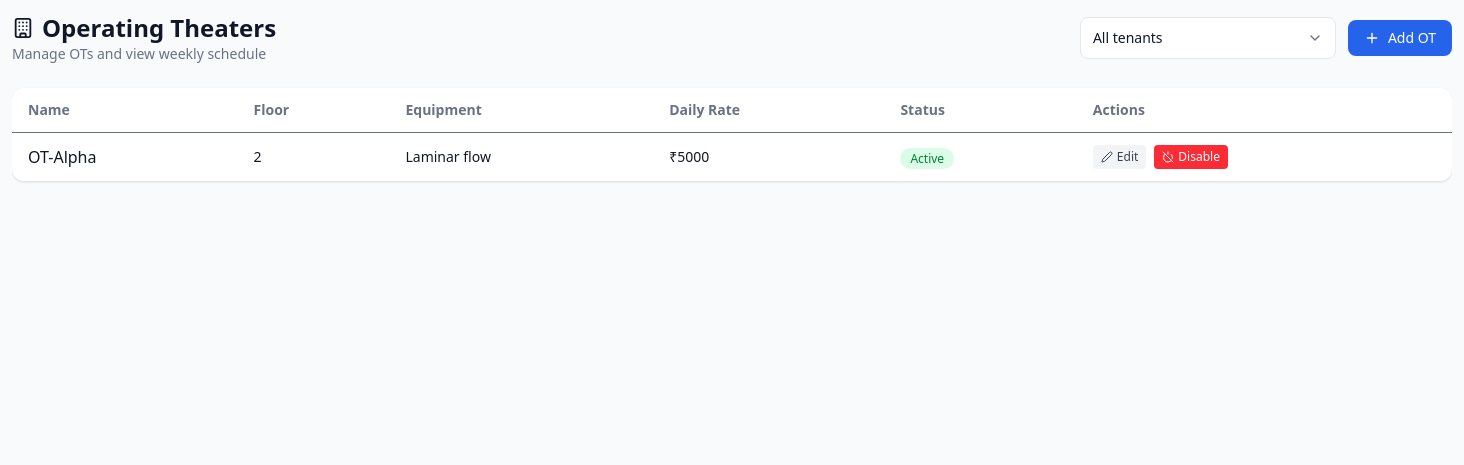
Test case: OT (Operating Theatres) dashboard page › renders scheduled surgeries (procedure + patient name) under the matching weekday tile
Click the text "OT-Alpha": (62, 157) [12,132,1452,181]
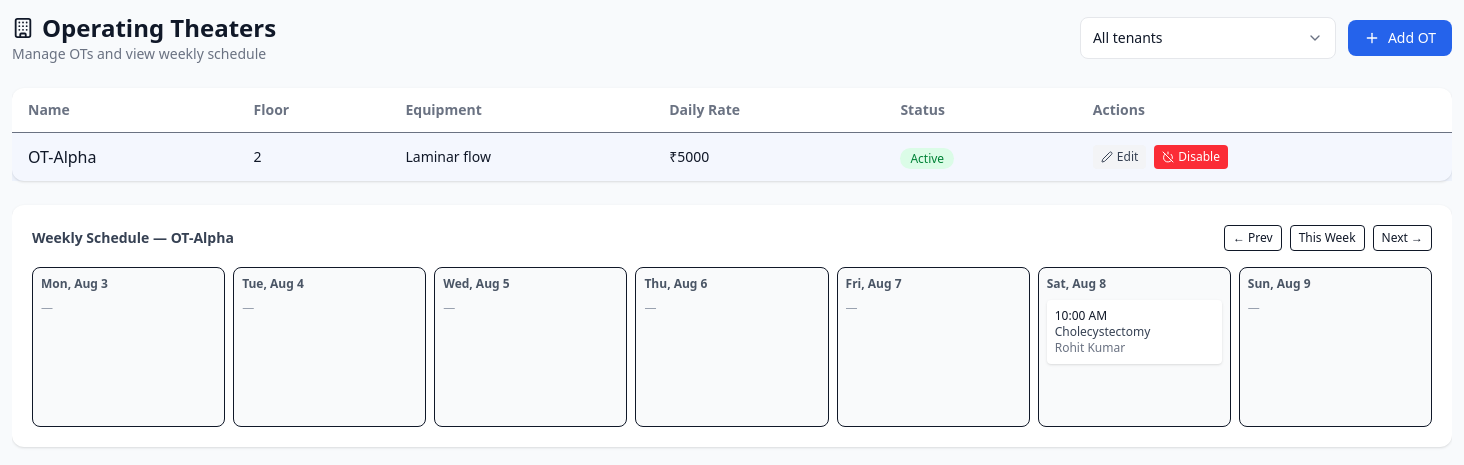
Now the text "Cholecystectomy" is shown, box [1055,323,1150,340]
Now the text "Rohit Kumar" is shown, box [1055,339,1125,356]
